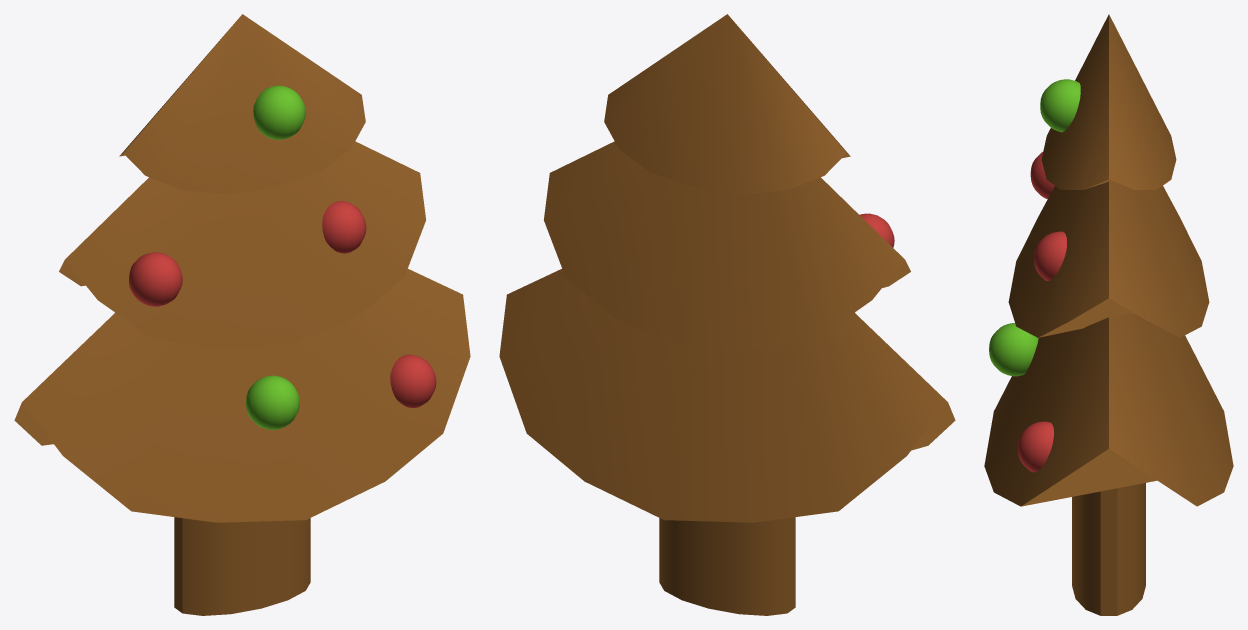
File: jam3tree.fbx
3 renders of one model, left to right at view 1: azimuth 30°, elevation 25°; view 2: azimuth 150°, elevation 25°; view 3: azimuth 270°, elevation 25°, orthographic.
Parts seen in each view (by area): view 1: Cone.001; view 2: Cone.001; view 3: Cone.001.
Part boxes in pixels (x1,y1,x2,y2): Cone.001: (14, 14, 470, 615); Cone.001: (499, 14, 955, 615); Cone.001: (984, 14, 1233, 615).
Bounding box in the file's own units: 228 × 287 × 114.
